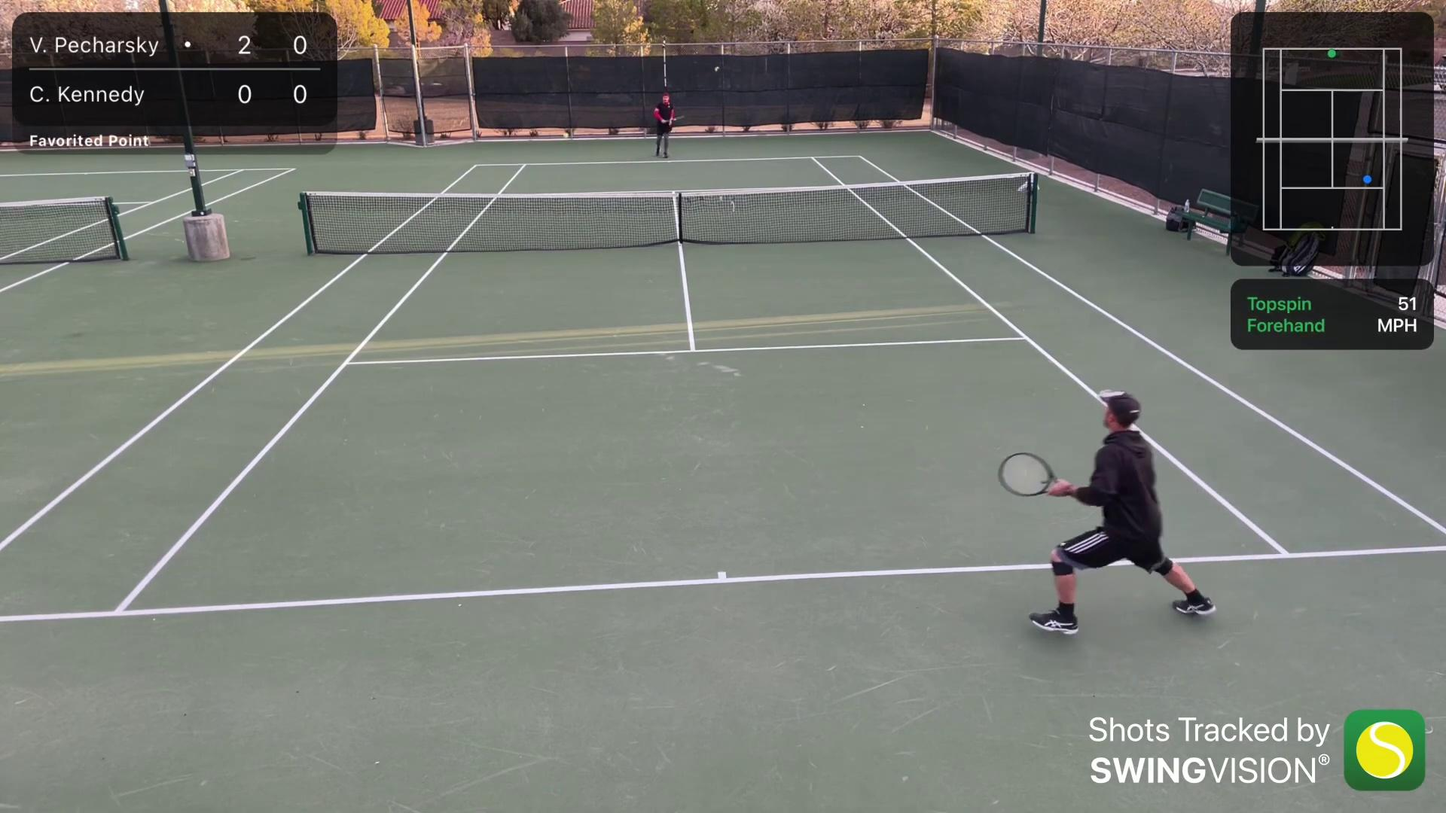ball: (562, 133, 569, 140)
